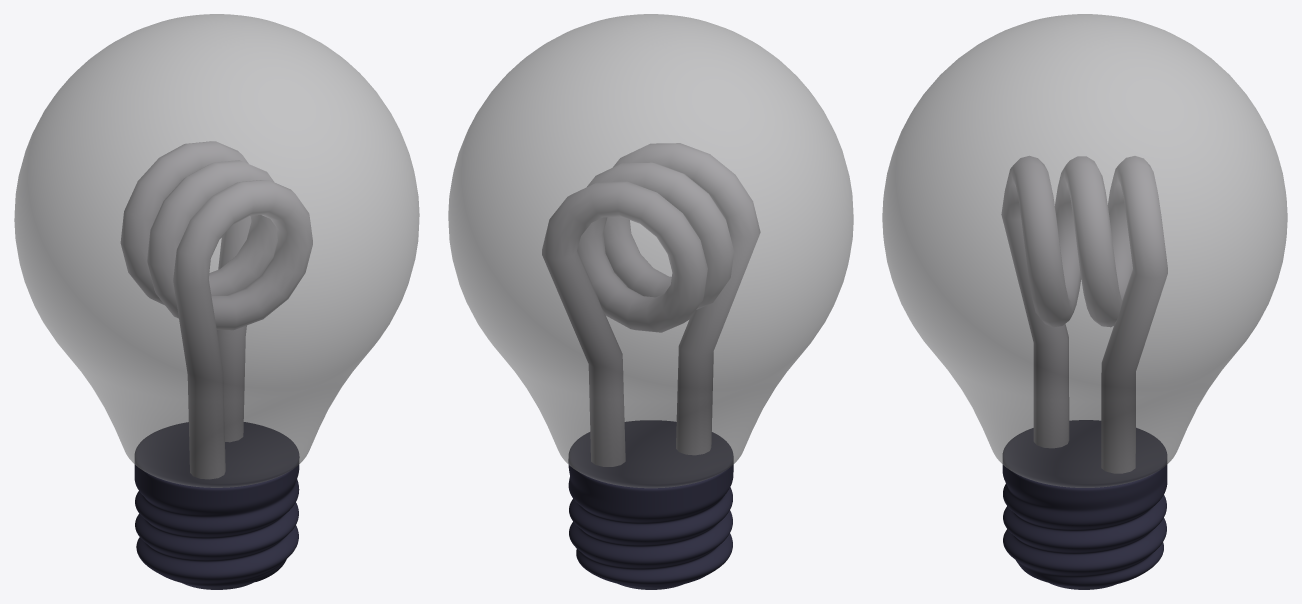
The model's file is bulb.glb.
The picture shows the model from 3 angles, left to right: view 1: azimuth 30°, elevation 25°; view 2: azimuth 150°, elevation 25°; view 3: azimuth 270°, elevation 25°; orthographic projection.
Visible parts, largest first — view 1: Sphere, Plane, Bolt; view 2: Sphere, Plane, Bolt; view 3: Sphere, Plane, Bolt.
Boxes of the visible parts, bbox=[...] form: Sphere: bbox=[14, 14, 419, 487]; Plane: bbox=[121, 141, 312, 479]; Bolt: bbox=[134, 422, 299, 589]; Sphere: bbox=[448, 14, 853, 488]; Plane: bbox=[542, 143, 760, 466]; Bolt: bbox=[568, 420, 733, 589]; Sphere: bbox=[882, 14, 1287, 487]; Plane: bbox=[1001, 156, 1167, 473]; Bolt: bbox=[1002, 420, 1167, 589].
Bounding box in the file's own units: 4.75 × 6.97 × 4.75.
4 materials, 1 textured.
